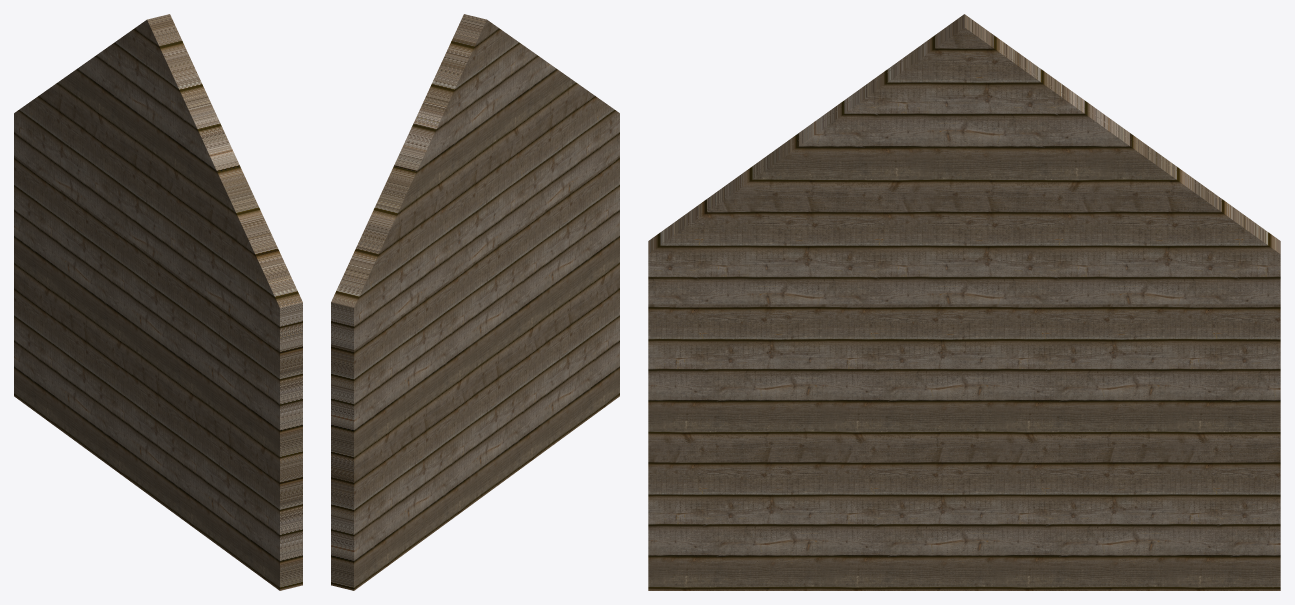
The model's file is R1_Kanan.fbx.
The picture shows the model from 3 angles, left to right: view 1: azimuth 30°, elevation 25°; view 2: azimuth 150°, elevation 25°; view 3: azimuth 270°, elevation 25°; orthographic projection. The views are drawn at different scales.
Parts seen in each view (by area): view 1: Cube.022; view 2: Cube.022; view 3: Cube.022.
Boxes of the visible parts, x1,y1,x2,y2 form: Cube.022: [14, 14, 302, 590]; Cube.022: [331, 14, 619, 590]; Cube.022: [648, 14, 1280, 590].
Bounding box in the file's own units: 0.7 × 13.77 × 14.
1 material, 1 textured.
